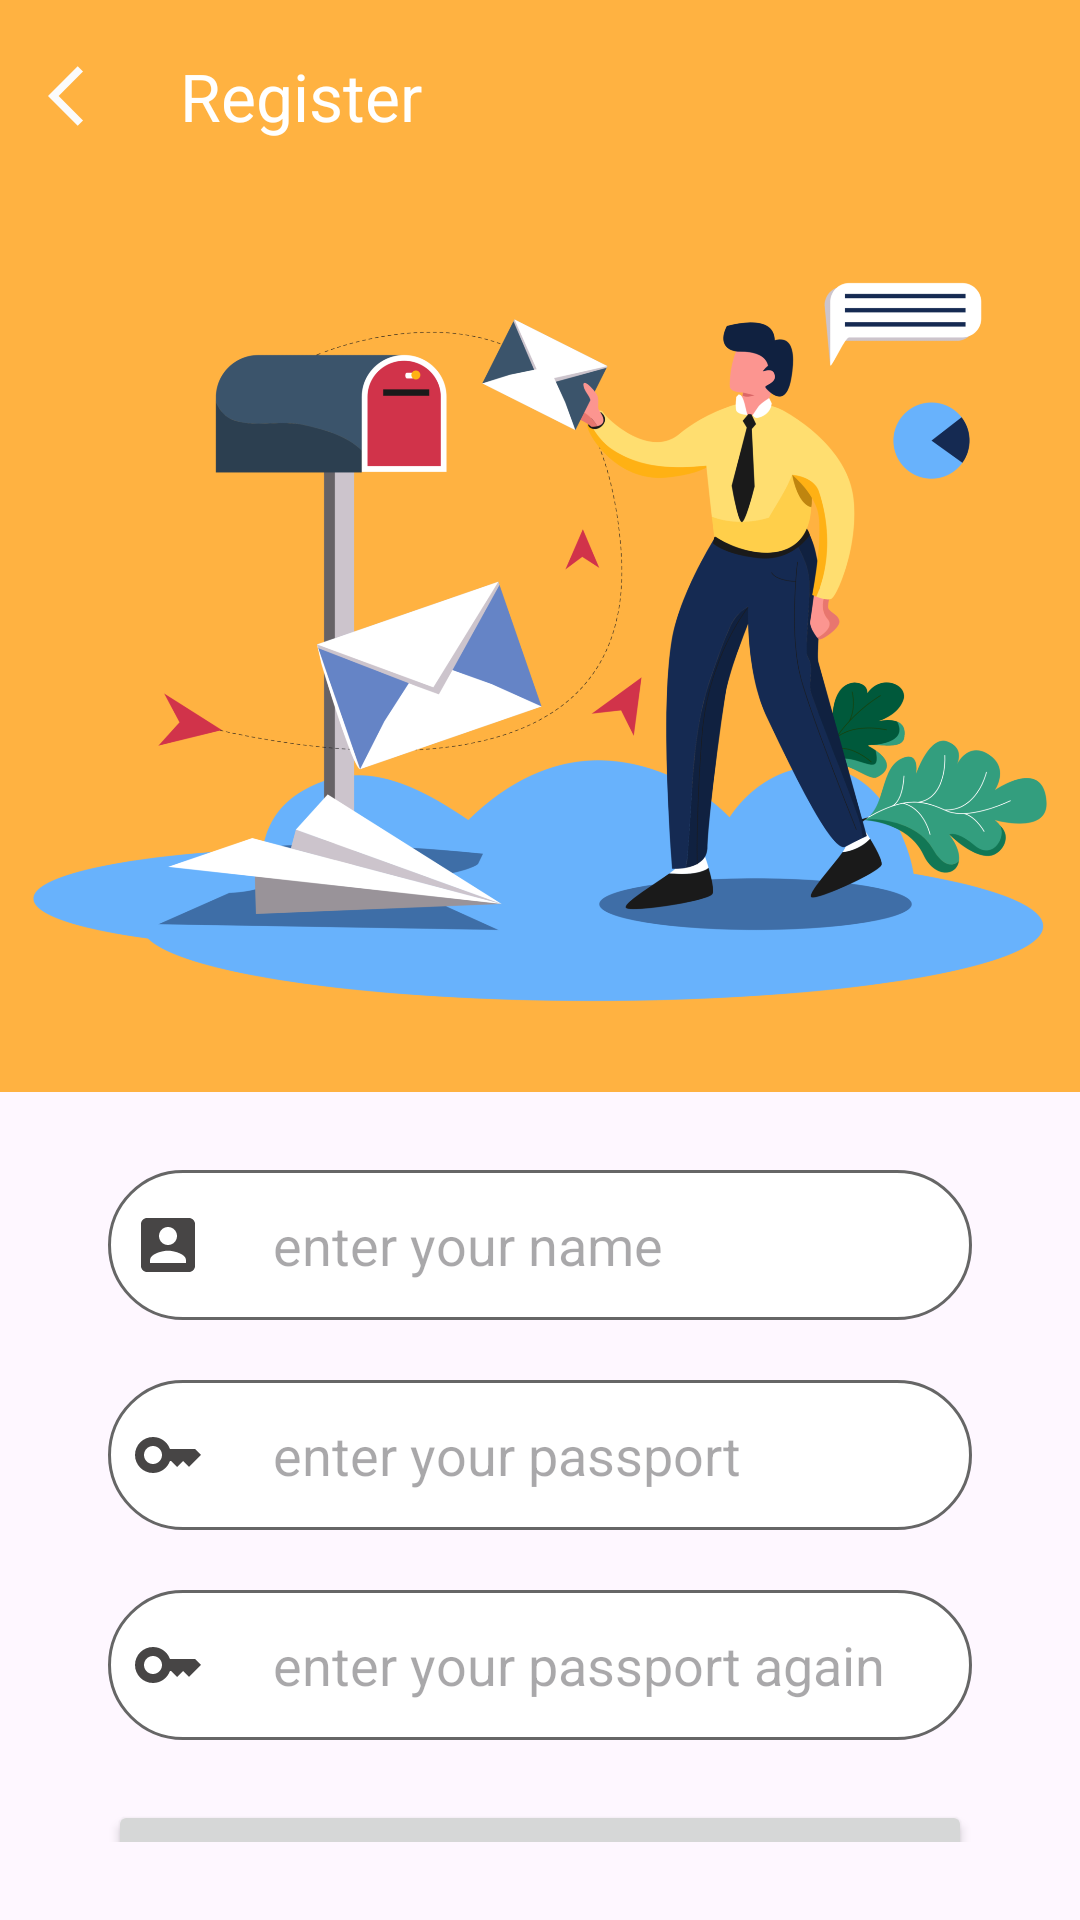

Icons on this 1080×1920 Android screen, each with its box as (x1, y1, x2, y2):
account box: (141, 1218, 195, 1272)
key: (135, 1437, 201, 1473), (135, 1647, 201, 1683)
